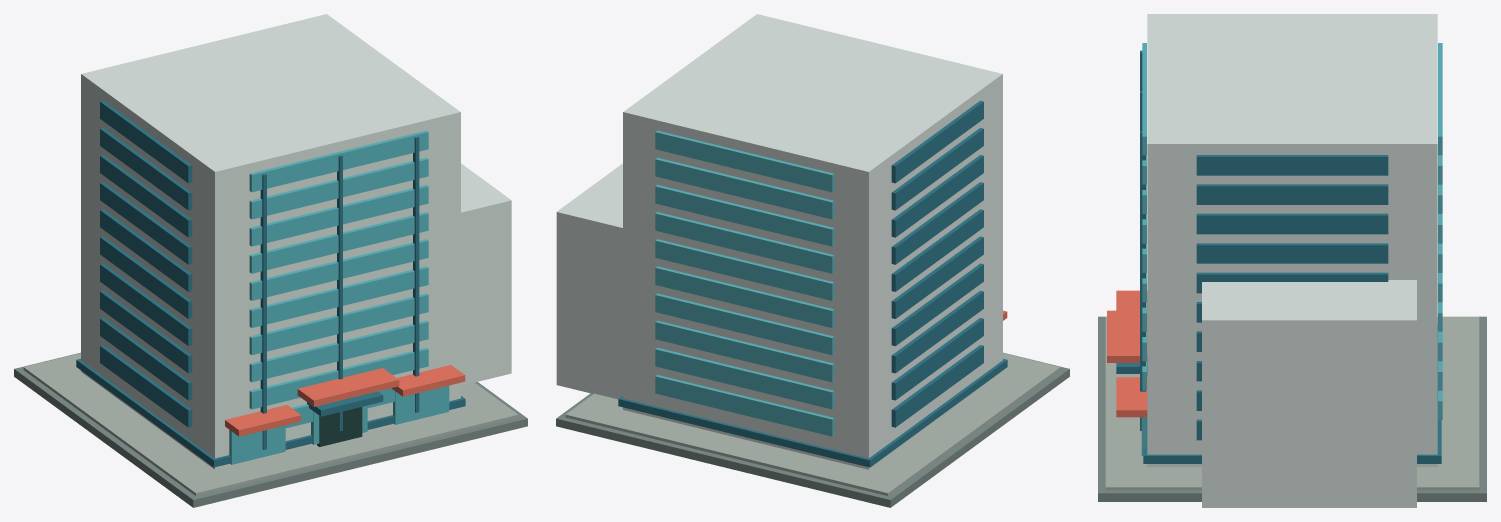
File: office_lv2.glb
3 views of the same model, side by side, from view 1: azimuth 30°, elevation 25°; view 2: azimuth 150°, elevation 25°; view 3: azimuth 270°, elevation 25° (orthographic). The views are drawn at different scales.
Parts seen in each view (by area): view 1: white, glass, glassDark, concrete, pavement, coral, dark; view 2: white, glass, glassDark, concrete, pavement; view 3: white, glassDark, concrete, pavement, glass, coral.
Part boxes in pixels (x1=…): white: x1=81, y1=14, x2=511, y2=469; glass: x1=229, y1=130, x2=449, y2=464; glassDark: x1=76, y1=100, x2=465, y2=467; concrete: x1=23, y1=353, x2=518, y2=495; pavement: x1=14, y1=352, x2=527, y2=507; coral: x1=225, y1=365, x2=465, y2=436; dark: x1=317, y1=407, x2=362, y2=446; white: x1=556, y1=14, x2=1002, y2=469; glass: x1=655, y1=130, x2=834, y2=436; glassDark: x1=618, y1=100, x2=1007, y2=467; concrete: x1=565, y1=353, x2=1060, y2=495; pavement: x1=556, y1=352, x2=1069, y2=507; white: x1=1147, y1=14, x2=1437, y2=507; glassDark: x1=1116, y1=50, x2=1441, y2=463; concrete: x1=1105, y1=316, x2=1479, y2=490; pavement: x1=1098, y1=316, x2=1486, y2=501; glass: x1=1141, y1=43, x2=1442, y2=455; coral: x1=1107, y1=290, x2=1147, y2=417.
Bounding box in the file's own units: 10.73 × 8.64 × 9.1.
